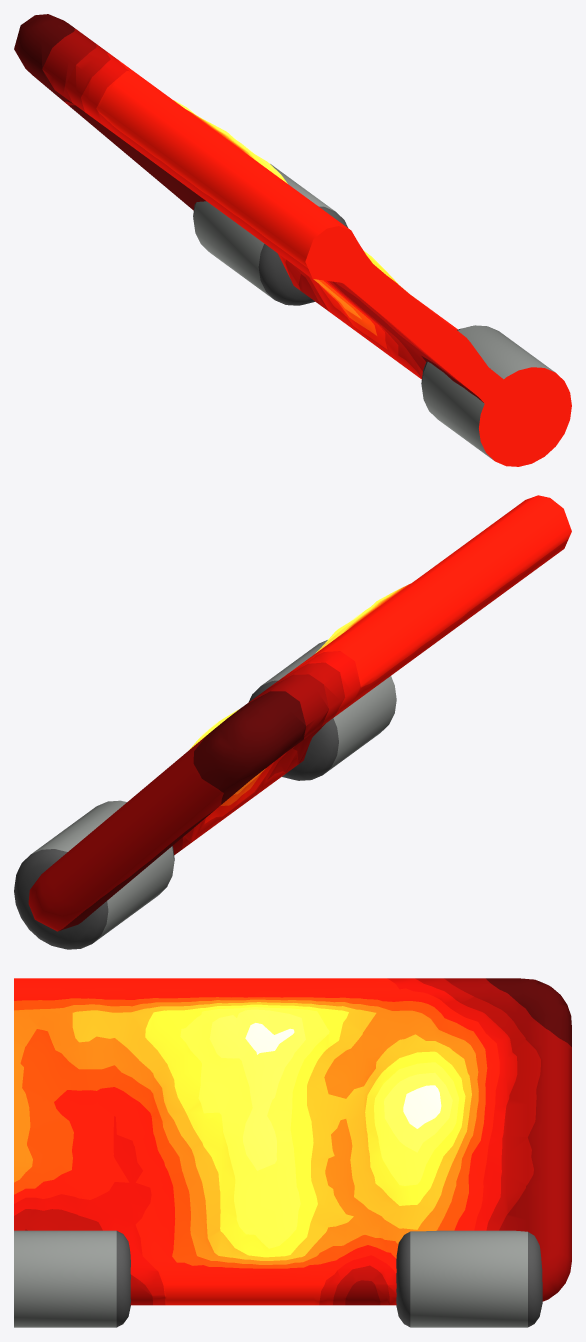
File: fire_flap_3.glb
The picture shows the model from 3 angles, top to bottom: view 1: azimuth 30°, elevation 25°; view 2: azimuth 150°, elevation 25°; view 3: azimuth 270°, elevation 25°; orthographic projection. The views are drawn at different scales.
Parts seen in each view (by area): view 1: flap.001, knuckle1.001, knuckle0.001; view 2: flap.001, knuckle0.001, knuckle1.001; view 3: flap.001, knuckle0.001, knuckle1.001.
Part boxes in pixels (box(x1,y1,x2,y2)): flap.001: box(14, 14, 550, 445); knuckle1.001: box(421, 325, 571, 466); knuckle0.001: box(193, 164, 347, 305); flap.001: box(28, 495, 571, 931); knuckle0.001: box(14, 800, 174, 949); knuckle1.001: box(248, 640, 396, 780); flap.001: box(14, 978, 571, 1305); knuckle0.001: box(396, 1230, 542, 1327); knuckle1.001: box(14, 1230, 130, 1327).
Bounding box in the file's own units: 9.44 × 9.65 × 19.
